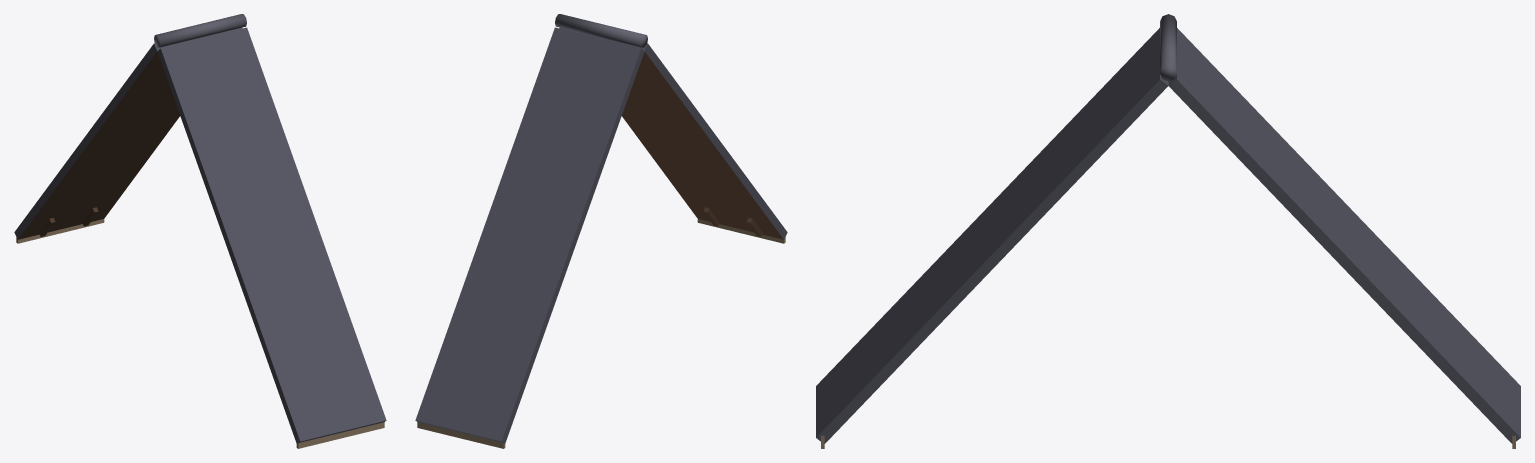
Rendered from kit_clapboard_slate_w5.glb.
3 renders of one model, left to right at view 1: azimuth 30°, elevation 25°; view 2: azimuth 150°, elevation 25°; view 3: azimuth 270°, elevation 25°, orthographic. The views are drawn at different scales.
Parts seen in each view (by area): view 1: kit_clapboard_slate_w5; view 2: kit_clapboard_slate_w5; view 3: kit_clapboard_slate_w5.
Part boxes in pixels (box(x1,y1,x2,y2)): kit_clapboard_slate_w5: box(14, 14, 386, 448); kit_clapboard_slate_w5: box(415, 14, 787, 448); kit_clapboard_slate_w5: box(816, 14, 1520, 448).
Size of the model in its own units: 1 by 3.44 by 5.74.
